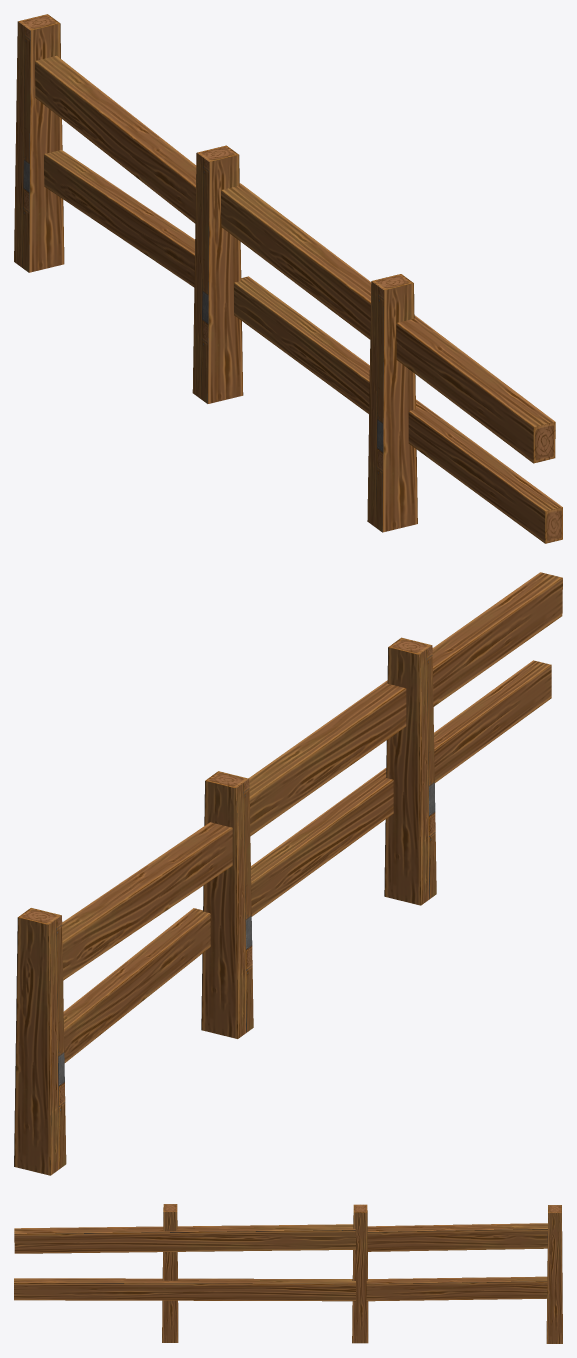
3 renders of one model, top to bottom at view 1: azimuth 30°, elevation 25°; view 2: azimuth 150°, elevation 25°; view 3: azimuth 270°, elevation 25°, orthographic. The views are drawn at different scales.
Visible parts, largest first — view 1: Cube.2123; view 2: Cube.2123; view 3: Cube.2123.
Boxes of the visible parts, x1=… form: Cube.2123: x1=14, y1=14, x2=562, y2=543; Cube.2123: x1=14, y1=572, x2=562, y2=1175; Cube.2123: x1=14, y1=1204, x2=562, y2=1343.
Bounding box in the file's own units: 26.04 × 132 × 504.
Materials: 1 (1 with a texture image).
